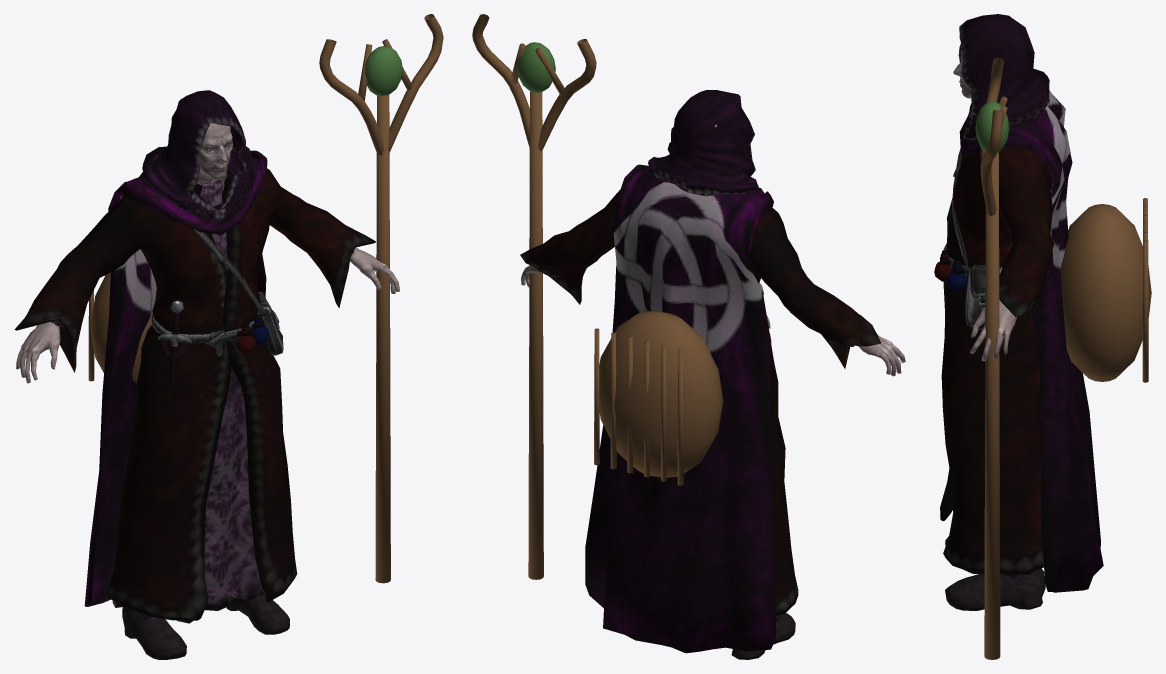
File: actor-herbalist-mobile.glb
3 views of the same model, side by side, from view 1: azimuth 30°, elevation 25°; view 2: azimuth 150°, elevation 25°; view 3: azimuth 270°, elevation 25° (orthographic). The views are drawn at different scales.
Parts seen in each view (by area): view 1: mage · posed; view 2: mage · posed; view 3: mage · posed.
Part boxes in pixels (box(x1,y1,x2,y2)): mage · posed: box(14, 14, 443, 659); mage · posed: box(472, 14, 905, 659); mage · posed: box(934, 14, 1151, 659).
Size of the model in its own units: 1.64 by 2.09 by 0.7044.
Materials: 3 (1 with a texture image).
